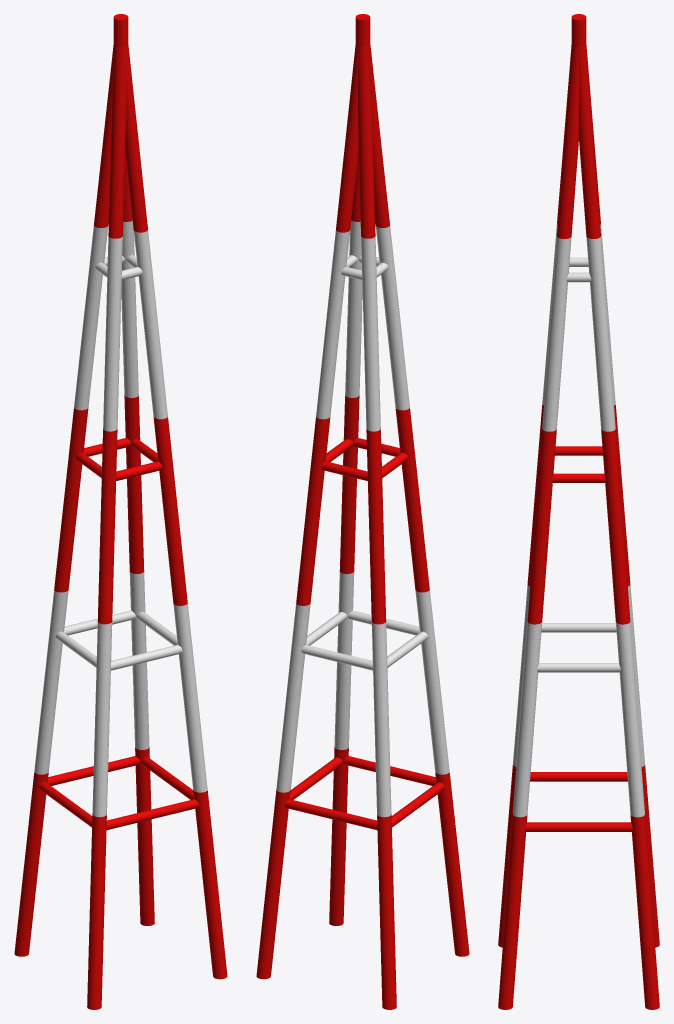
File: Radio.fbx
The picture shows the model from 3 angles, left to right: view 1: azimuth 30°, elevation 25°; view 2: azimuth 150°, elevation 25°; view 3: azimuth 270°, elevation 25°; orthographic projection.
Visible parts, largest first — view 1: Radio Tower; view 2: Radio Tower; view 3: Radio Tower.
Part boxes in pixels (left/top/right/bottom): Radio Tower: left=14, top=14, right=227, bottom=1009; Radio Tower: left=256, top=14, right=469, bottom=1009; Radio Tower: left=498, top=14, right=659, bottom=1009.
Size of the model in its own units: 220 by 1439 by 220.
